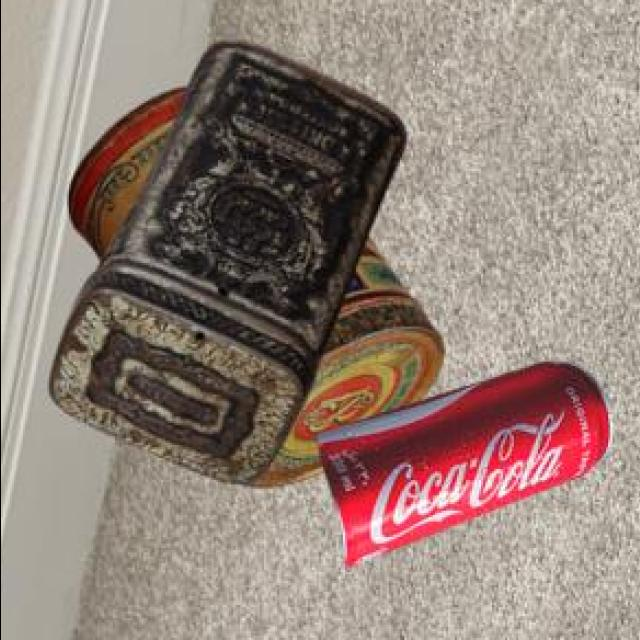logam: (45, 45, 402, 485), (65, 92, 439, 490), (312, 365, 608, 569)
